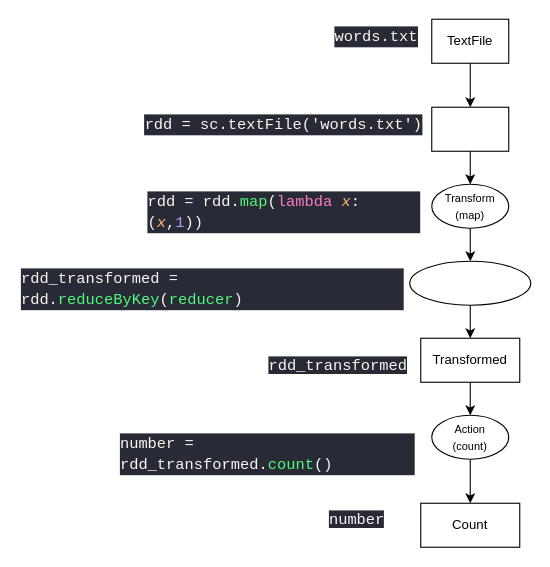
Image size: 550x567. Some labels were removed from this diagram. Each missing label, with the centre of its shape:
"RDD" goes at point (470, 128).
"Transform (reduceByKey)" goes at point (470, 282).
